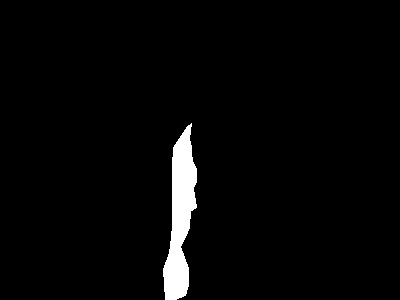Fire: (156, 119, 195, 300)
